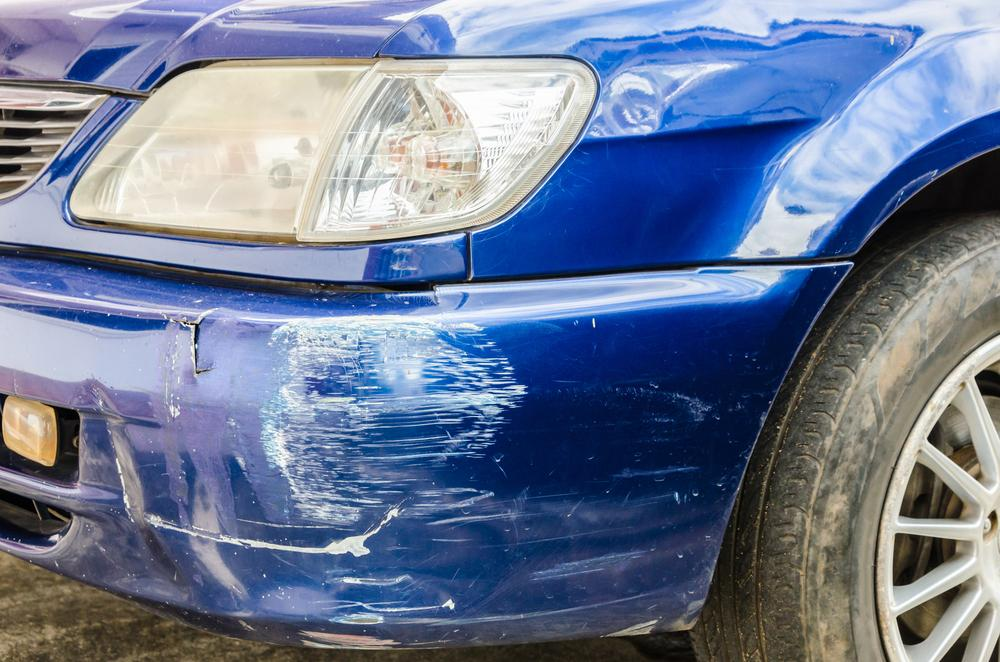crack: (160, 310, 219, 379)
dent: (230, 479, 497, 618), (80, 379, 189, 604)
scratch: (257, 314, 532, 524)
